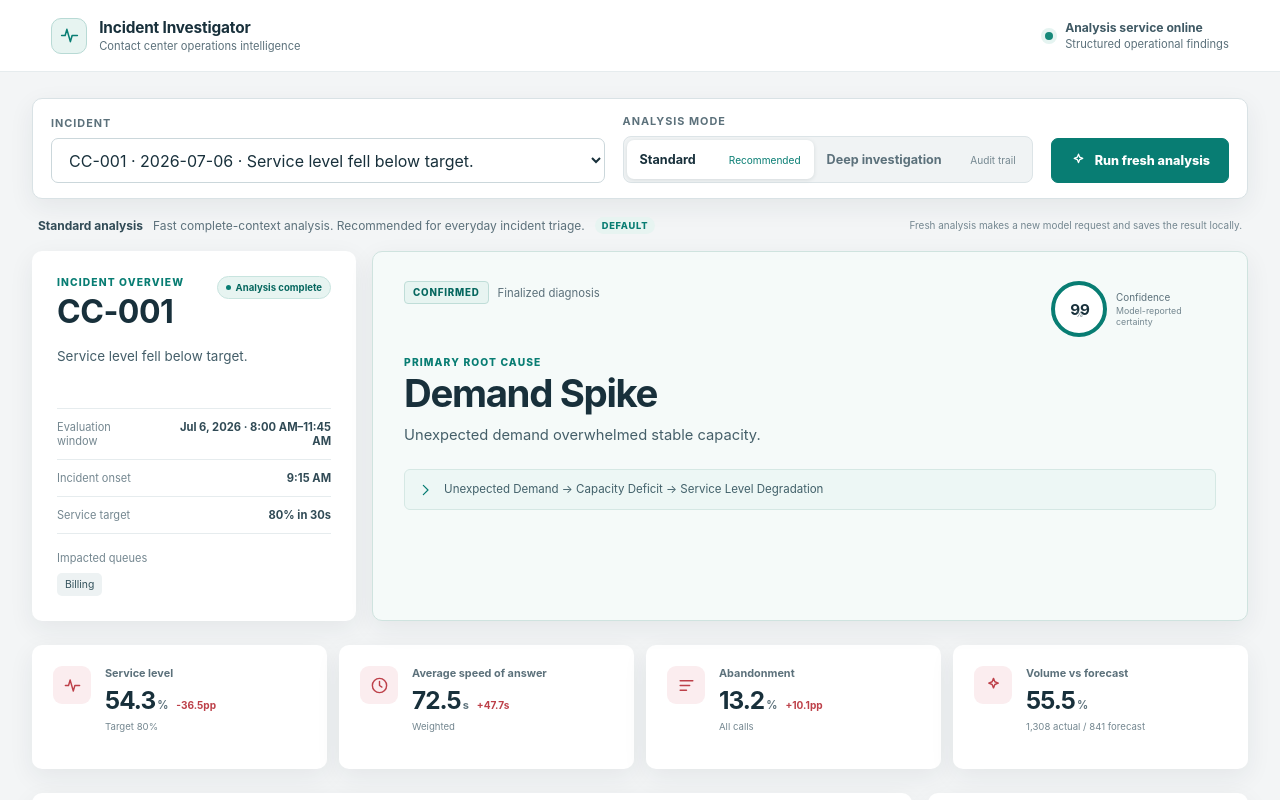
runs the live standard analysis and renders its result
The width and height of the screenshot is (1280, 800).
expect the heading "Demand Spike" is shown: met, box [404, 370, 657, 416]
Click the button "Run fresh analysis": (1140, 160) [1051, 138, 1229, 183]
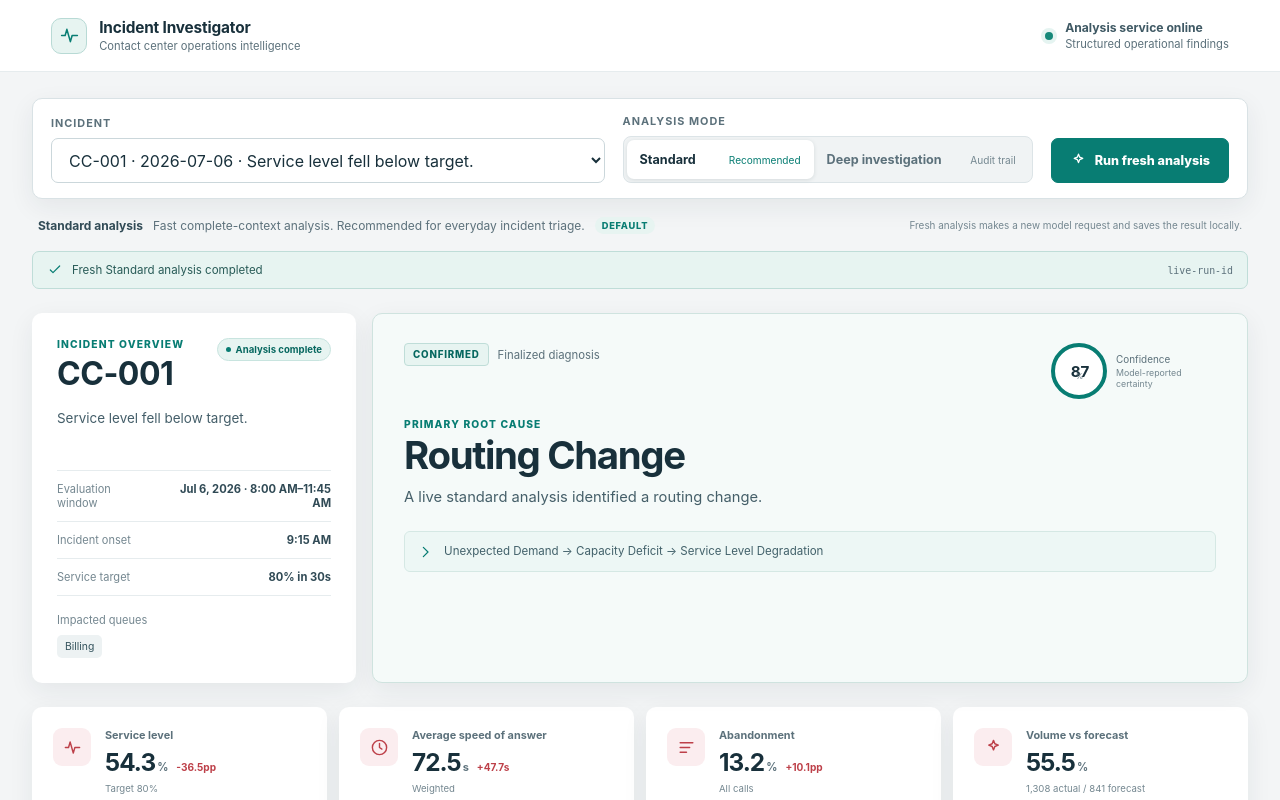
expect the text "Fresh Standard analysis completed" is shown: met, box [72, 263, 263, 277]
expect the heading "Routing Change" is shown: met, box [404, 432, 685, 478]
expect the element named "87 percent confidence" is shown: met, box [1051, 343, 1182, 399]
